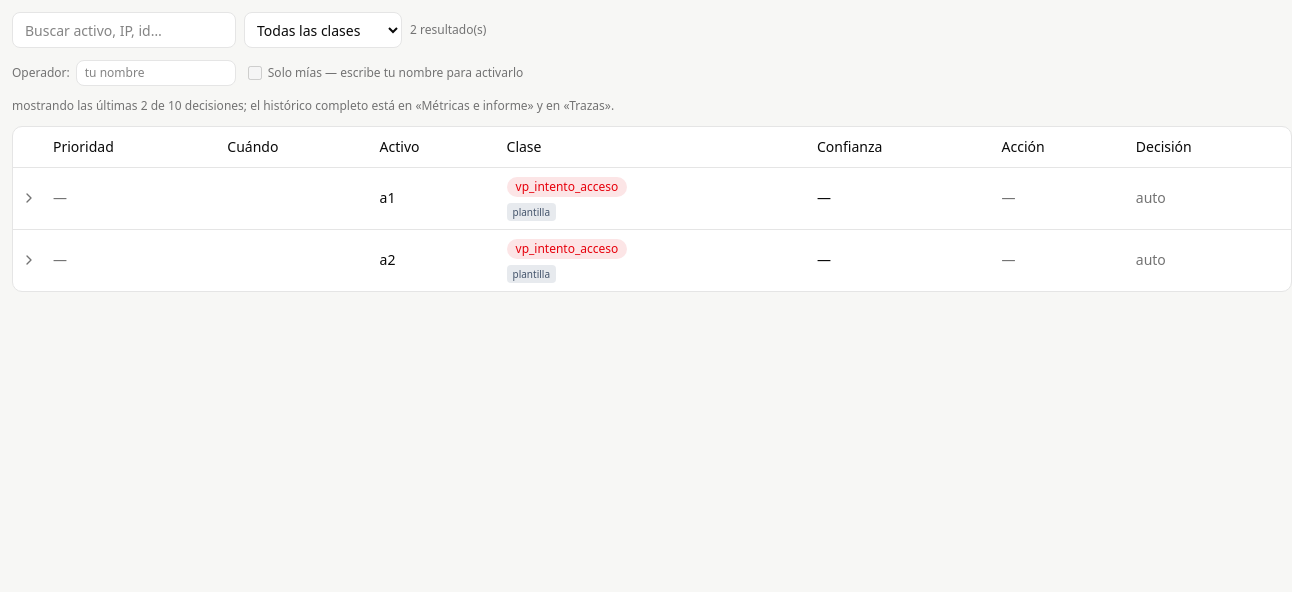
it: Identidad de las filas › dos registros con el mismo id no se abren juntos ni chocan sus claves
This screenshot has width=1292, height=592.
Click the text "a1" at (388, 198), box [372, 167, 498, 229]
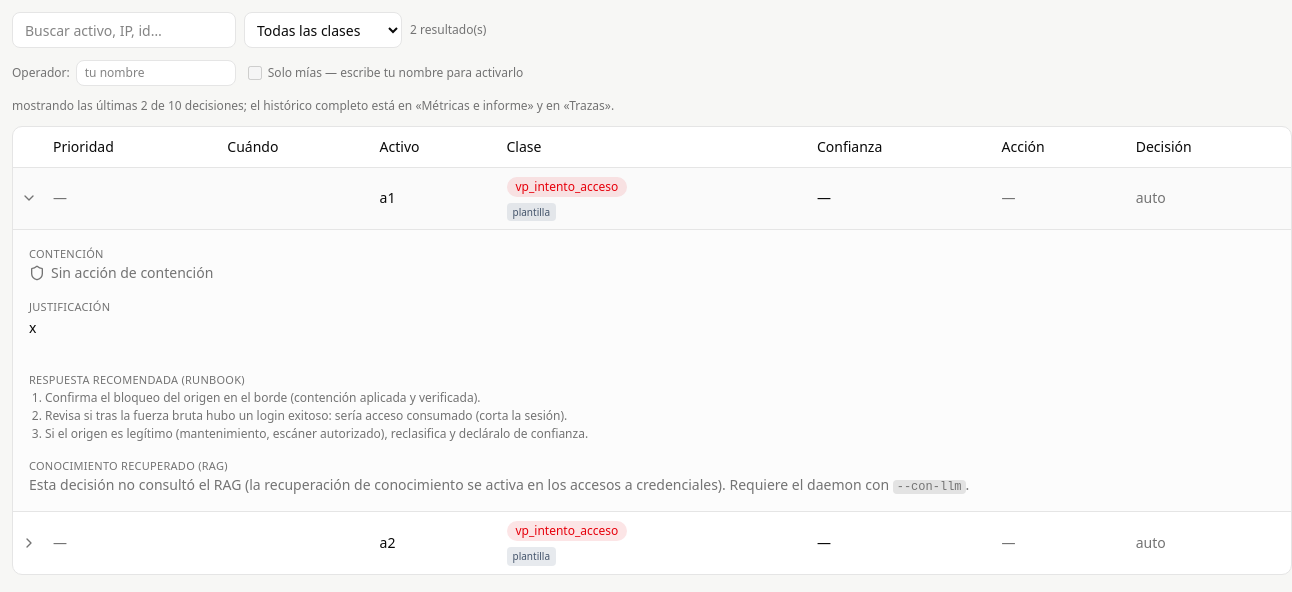
Expected: the text "Justificación" is shown once, [29, 300, 110, 314]
